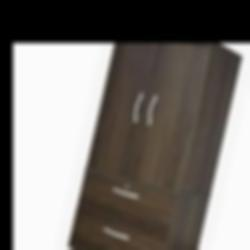Armario: (72, 49, 239, 250)
